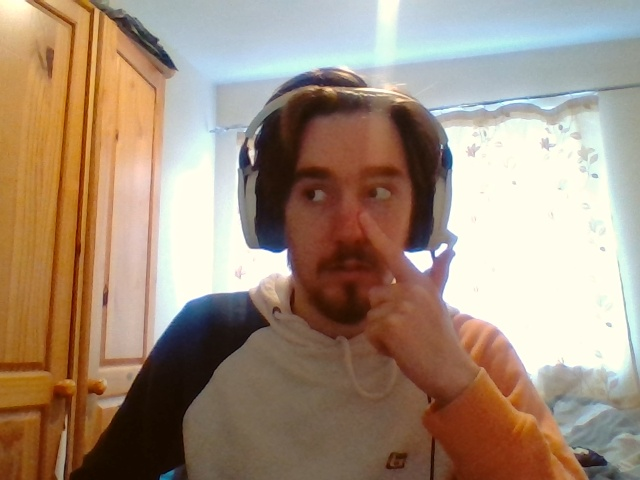luck: (357, 210, 455, 358)
